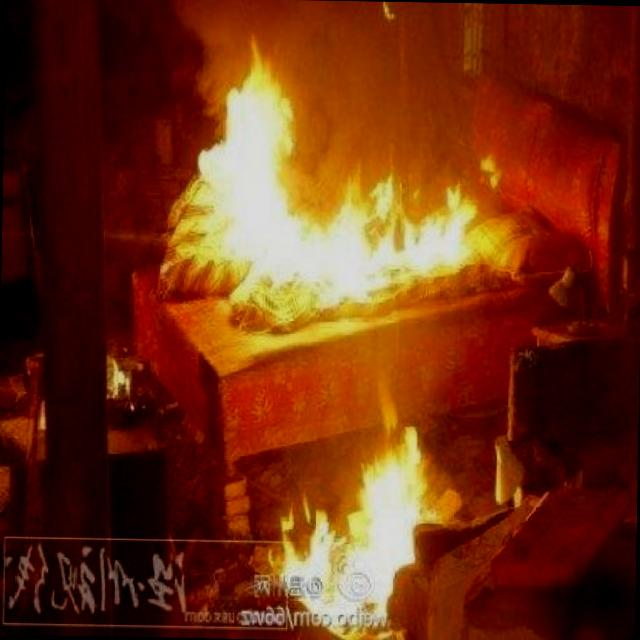fire: (143, 32, 524, 354), (277, 371, 484, 640)
